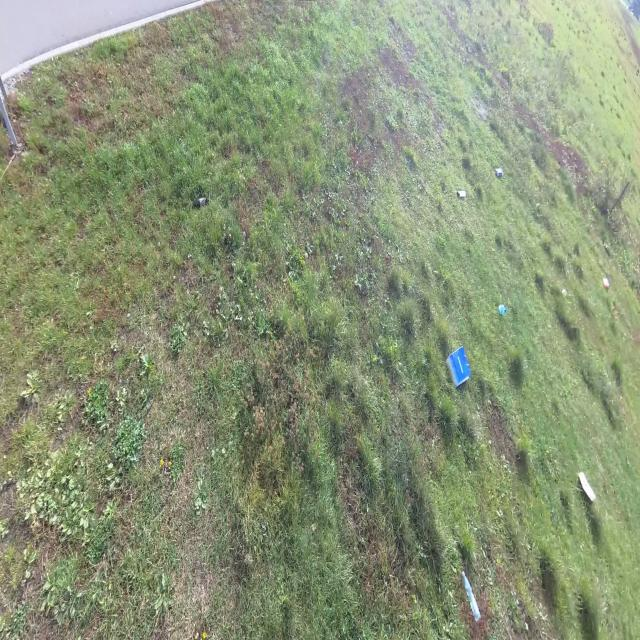rubbish: (444, 344, 472, 388), (462, 570, 482, 623), (577, 472, 597, 504), (189, 196, 209, 210), (494, 166, 505, 179), (602, 276, 610, 291), (498, 303, 507, 316), (457, 189, 467, 200), (561, 287, 567, 298)
